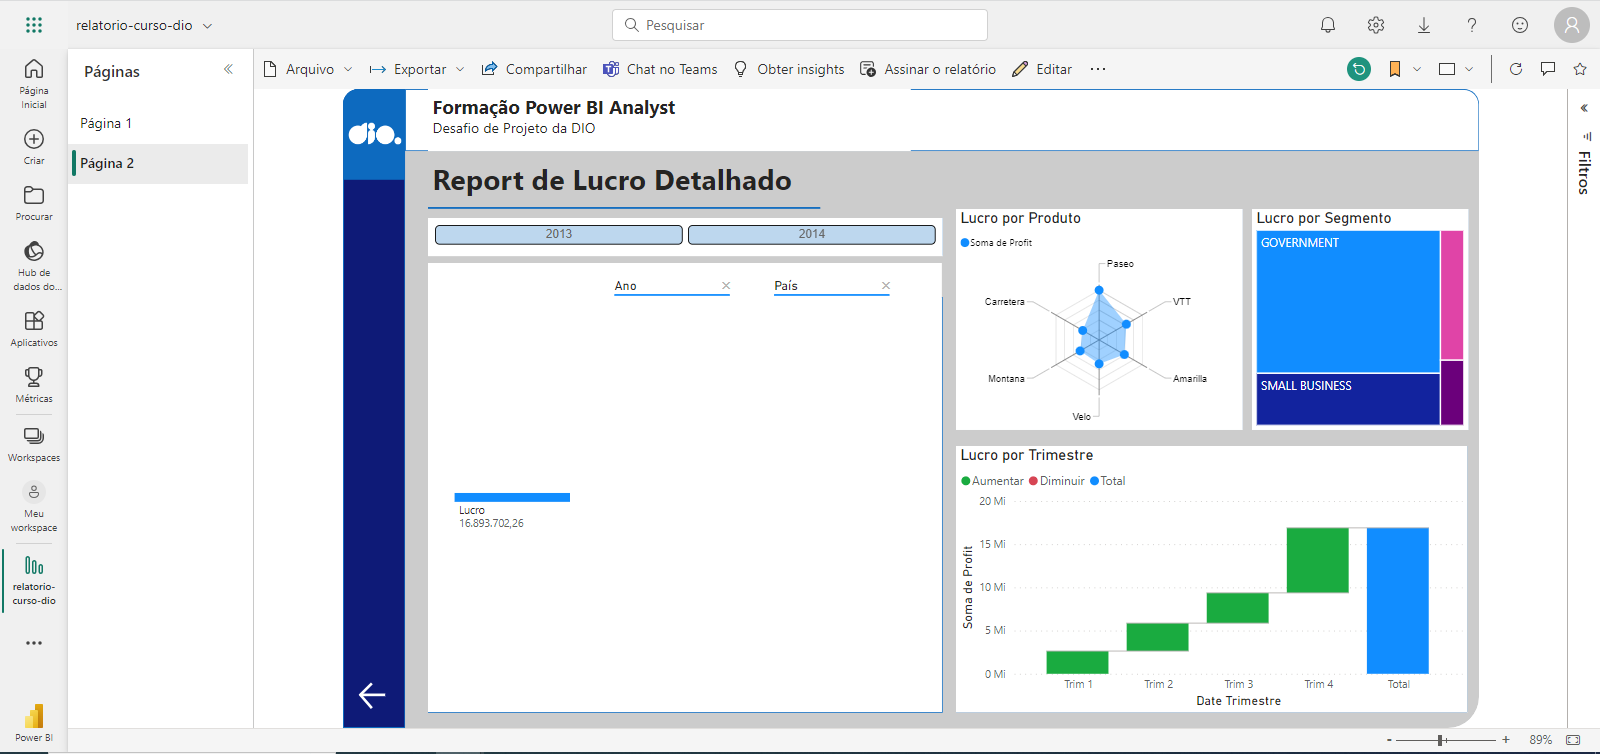

The page's visual inventory and layout, read from the dashboard file:
{"tool":"powerbi","page":{"name":"Página 2","canvas":[1280,720],"ordinal":1},"visuals":[{"type":"shape","title":"Fundo","box":[0,0,1280,720],"z":0},{"type":"shape","box":[70.1,0,1210.4,70.1],"z":0,"group":"g1"},{"type":"shape","title":"Linha","box":[96.2,102.3,442.4,65.2],"z":0,"group":"g2"},{"type":"shape","title":"Fundo","box":[0,0,70.1,720],"z":1000},{"type":"textbox","title":"Texto","box":[96,0,544,69.7],"z":1000,"group":"g1"},{"type":"textbox","title":"Title report","box":[96.2,73.8,517.5,61.4],"z":1000,"group":"g2"},{"type":"shape","title":"CantoSuperiorEsquerdo","box":[0,0,70.1,102.5],"z":2000},{"type":"image","title":"logo","box":[1.1,18.3,69.7,65.1],"z":4000},{"type":"group","id":"g1","title":"Cabeçalho","box":[70.1,0,1210.4,70.1],"z":9000},{"type":"group","id":"g2","title":"Titulo","box":[96.2,73.8,517.5,93.8],"z":10000},{"type":"actionButton","box":[13.3,663.3,45,40],"z":14000},{"type":"shape","box":[95.7,234.3,580,468.6],"z":14001},{"type":"shape","box":[691.2,402.5,576.2,300],"z":14002},{"type":"shape","box":[96.2,145,580,42.5],"z":14003},{"type":"shape","box":[691.2,135,322.5,248.8],"z":14004},{"type":"shape","box":[1025,135,242.5,248.8],"z":14005},{"type":"waterfallChart","title":"Lucro por Trimestre","fields":{"Y":["Sum(financials.Profit)"],"Category":["financials.Date.Variation.Hierarquia de datas.Trimestre"]},"box":[691.2,402.5,576.2,300],"z":14006},{"type":"treemap","title":"Lucro por Segmento","fields":{"Values":["Sum(financials.Profit)"],"Details":["financials.Segment"]},"box":[1023.8,135,243.8,248.8],"z":14007},{"type":"RadarChart1446119667547","title":"Lucro por Produto","fields":{"Y":["Sum(financials.Profit)"],"Category":["financials.Product"]},"box":[691.2,135,322.5,248.8],"z":14008},{"type":"decompositionTreeVisual","fields":{"Analyze":["Sum(financials.Profit)"],"ExplainBy":["financials.Date.Variation.Hierarquia de datas.Ano","financials.Country"]},"box":[96.2,196.2,578.8,506.2],"z":14009},{"type":"ChicletSlicer1448559807354","fields":{"Category":["financials.Date.Variation.Hierarquia de datas.Ano"]},"box":[96.2,145,580,42.5],"z":14010}]}

Visuals, with their boxes on the page's 1280x720 design canvas (x1, y1, x2, y2). These are canvas units, not pixel positions in the 1600x754 screenshot, which may show the page scaled, cropped or inside an application window:
"Fundo" shape: {"left": 0, "top": 0, "right": 1280, "bottom": 720}
shape: {"left": 70, "top": 0, "right": 1280, "bottom": 70}
"Linha" shape: {"left": 96, "top": 102, "right": 539, "bottom": 168}
"Fundo" shape: {"left": 0, "top": 0, "right": 70, "bottom": 720}
"Texto" textbox: {"left": 96, "top": 0, "right": 640, "bottom": 70}
"Title report" textbox: {"left": 96, "top": 74, "right": 614, "bottom": 135}
"CantoSuperiorEsquerdo" shape: {"left": 0, "top": 0, "right": 70, "bottom": 102}
"logo" image: {"left": 1, "top": 18, "right": 71, "bottom": 83}
"Cabeçalho" group: {"left": 70, "top": 0, "right": 1280, "bottom": 70}
"Titulo" group: {"left": 96, "top": 74, "right": 614, "bottom": 168}
actionButton: {"left": 13, "top": 663, "right": 58, "bottom": 703}
shape: {"left": 96, "top": 234, "right": 676, "bottom": 703}
shape: {"left": 691, "top": 402, "right": 1267, "bottom": 702}
shape: {"left": 96, "top": 145, "right": 676, "bottom": 188}
shape: {"left": 691, "top": 135, "right": 1014, "bottom": 384}
shape: {"left": 1025, "top": 135, "right": 1268, "bottom": 384}
"Lucro por Trimestre" waterfallChart: {"left": 691, "top": 402, "right": 1267, "bottom": 702}
"Lucro por Segmento" treemap: {"left": 1024, "top": 135, "right": 1268, "bottom": 384}
"Lucro por Produto" RadarChart1446119667547: {"left": 691, "top": 135, "right": 1014, "bottom": 384}
decompositionTreeVisual - Sum(financials.Profit) x financials.Date.Variation.Hierarquia de datas.Ano: {"left": 96, "top": 196, "right": 675, "bottom": 702}
ChicletSlicer1448559807354 - financials.Date.Variation.Hierarquia de datas.Ano: {"left": 96, "top": 145, "right": 676, "bottom": 188}
